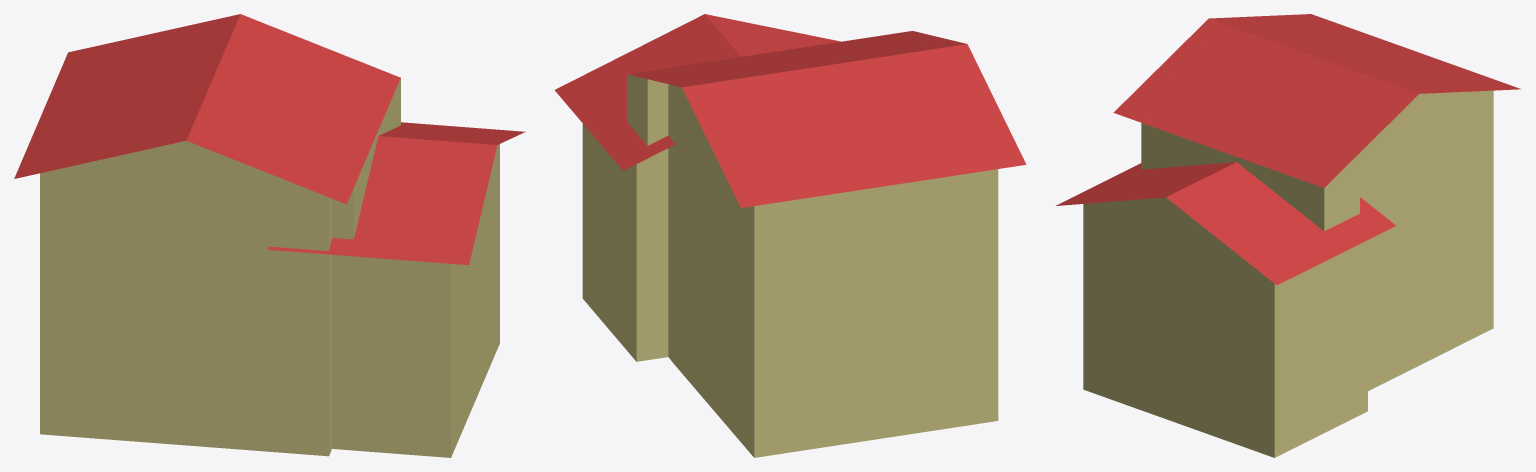
3 renders of one model, left to right at view 1: azimuth 30°, elevation 25°; view 2: azimuth 150°, elevation 25°; view 3: azimuth 270°, elevation 25°, orthographic. The views are drawn at different scales.
Parts seen in each view (by area): view 1: group_5, group_3, group_9, group_7, group_4, group_8; view 2: group_5, group_3, group_9, group_7, group_8, group_4; view 3: group_9, group_5, group_3, group_7, group_4, group_8.
Part boxes in pixels (bbox=[...]): group_5: bbox=[40, 78, 400, 456]; group_3: bbox=[14, 14, 400, 187]; group_9: bbox=[354, 144, 499, 457]; group_7: bbox=[268, 122, 525, 264]; group_4: bbox=[186, 14, 353, 204]; group_8: bbox=[268, 123, 523, 261]; group_5: bbox=[627, 74, 998, 457]; group_3: bbox=[628, 36, 1026, 207]; group_9: bbox=[582, 123, 647, 361]; group_7: bbox=[554, 14, 840, 170]; group_8: bbox=[555, 14, 832, 169]; group_4: bbox=[671, 31, 966, 111]; group_9: bbox=[1083, 197, 1367, 457]; group_5: bbox=[1141, 90, 1493, 390]; group_3: bbox=[1141, 14, 1520, 187]; group_7: bbox=[1056, 162, 1395, 284]; group_4: bbox=[1113, 18, 1427, 141]; group_8: bbox=[1064, 164, 1394, 283].
Size of the model in its own units: 19.22 by 17.41 by 11.71.
